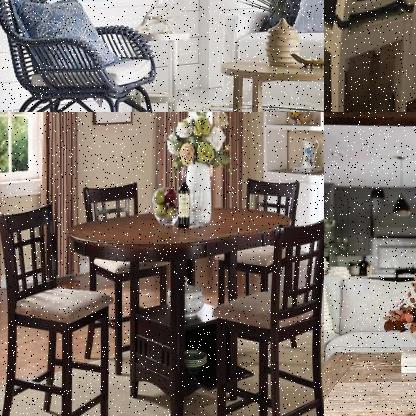table: (64, 201, 297, 415), (324, 0, 415, 111), (324, 345, 415, 415), (217, 56, 323, 111)
